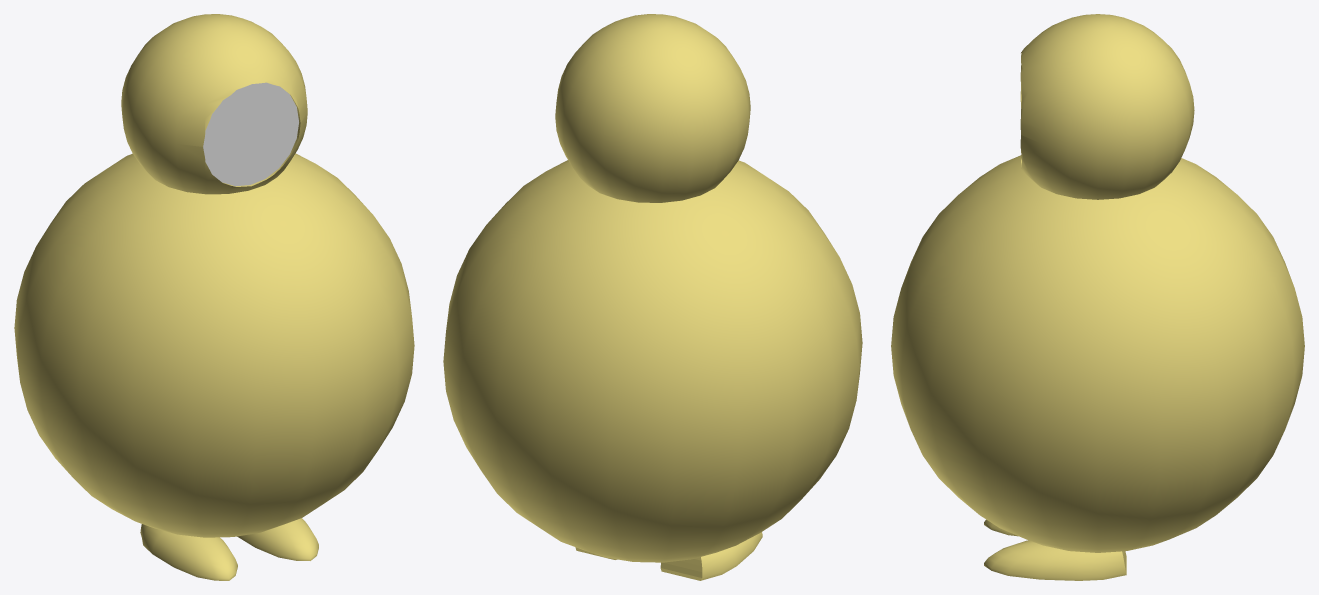
Rendered from friend1.fbx.
3 views of the same model, side by side, from view 1: azimuth 30°, elevation 25°; view 2: azimuth 150°, elevation 25°; view 3: azimuth 270°, elevation 25° (orthographic). The views are drawn at different scales.
Visible parts, largest first — view 1: pSphere12, pSphere11, pSphere5, pSphere3; view 2: pSphere12, pSphere11, pSphere5; view 3: pSphere12, pSphere11, pSphere3.
Boxes of the visible parts, x1=… form: pSphere12: x1=14, y1=153, x2=414, y2=537; pSphere11: x1=121, y1=14, x2=307, y2=194; pSphere5: x1=140, y1=524, x2=237, y2=580; pSphere3: x1=237, y1=518, x2=318, y2=560; pSphere12: x1=443, y1=160, x2=862, y2=562; pSphere11: x1=555, y1=14, x2=750, y2=202; pSphere5: x1=660, y1=532, x2=762, y2=580; pSphere12: x1=891, y1=155, x2=1304, y2=552; pSphere11: x1=1020, y1=14, x2=1194, y2=199; pSphere3: x1=984, y1=540, x2=1126, y2=580.
Size of the model in its own units: 4.29 by 5.97 by 4.29.
